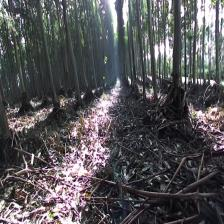trunk: (37, 5, 58, 111), (62, 7, 80, 102), (171, 0, 182, 104), (146, 4, 158, 97), (136, 8, 146, 96), (214, 7, 220, 82), (192, 12, 197, 83)
